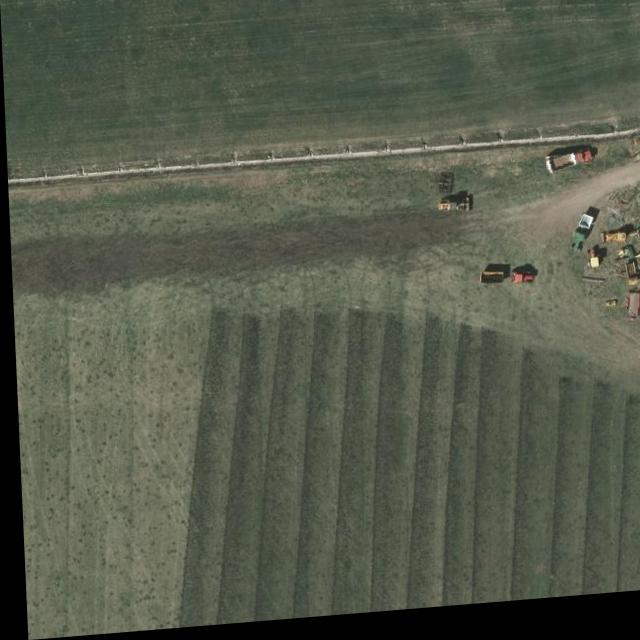vehicle: (543, 159, 592, 182)
